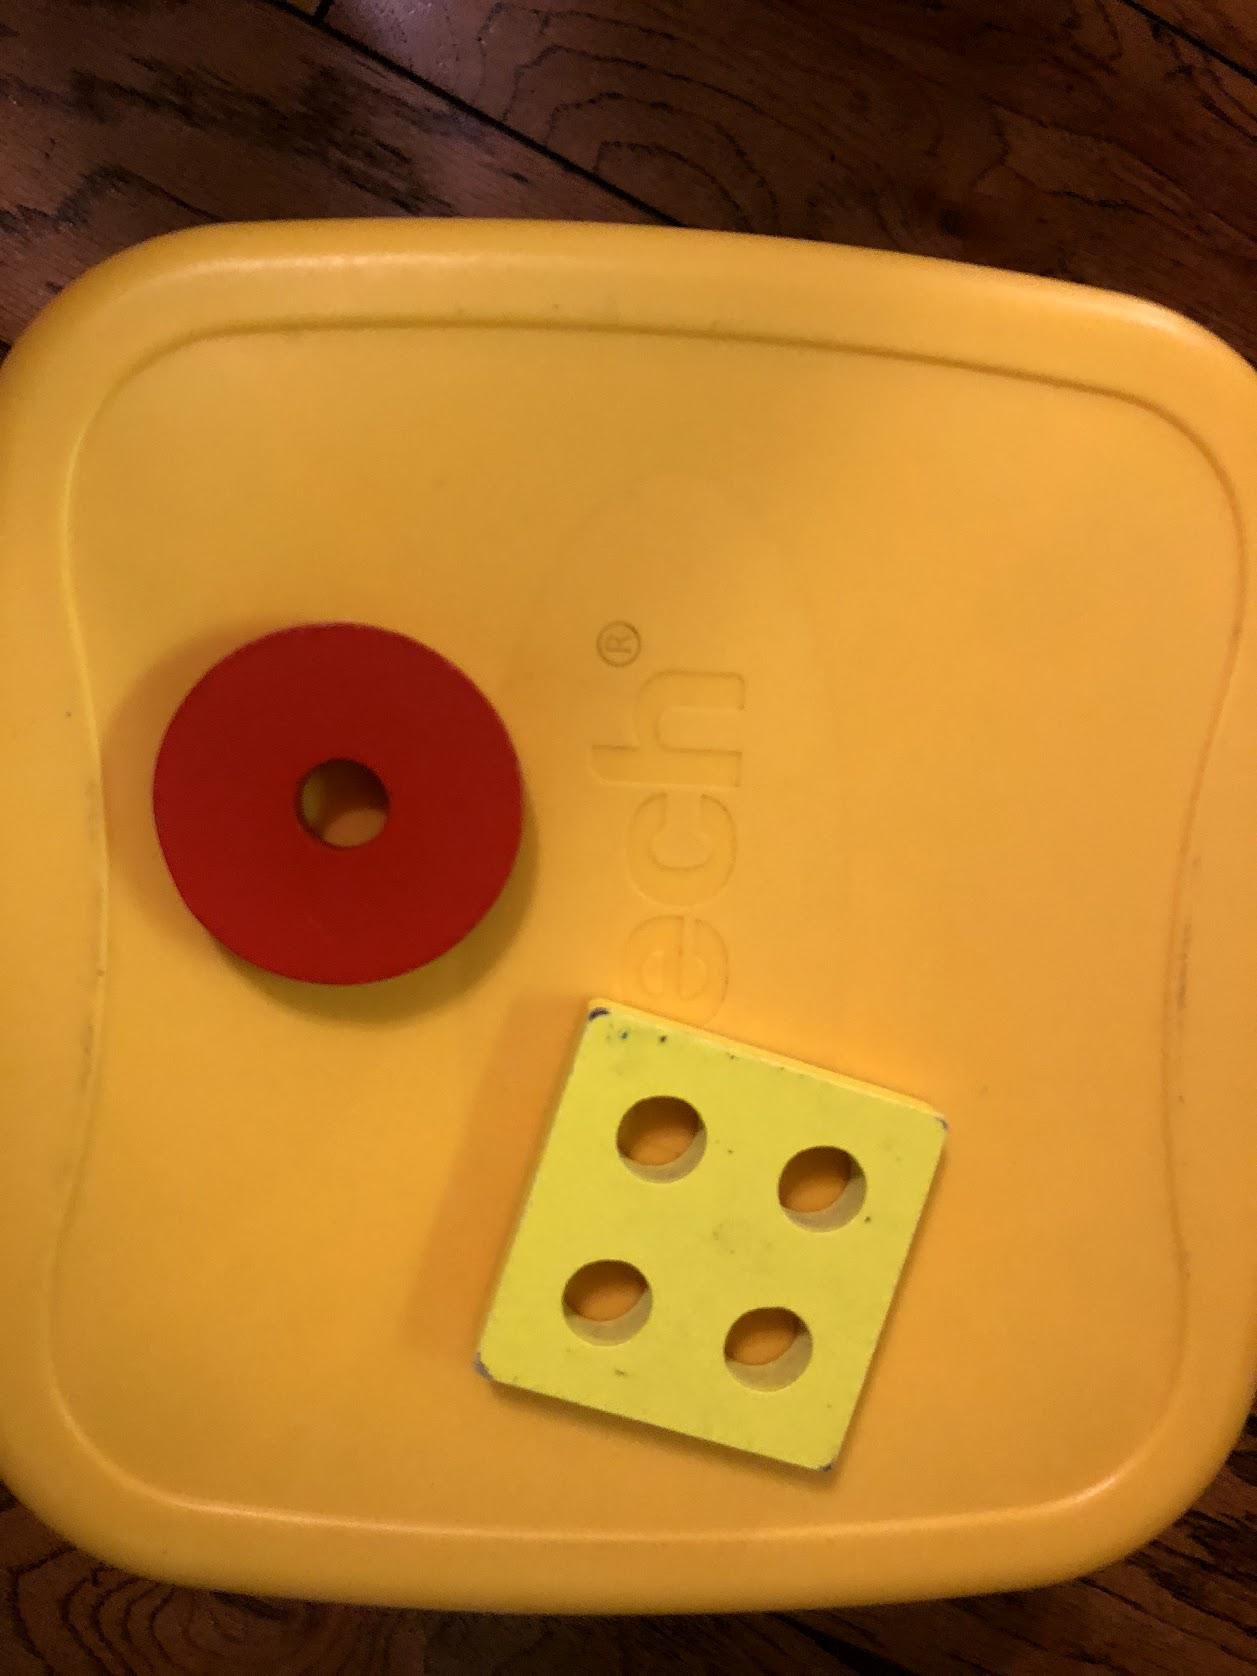Circle: (156, 622, 531, 990)
Square: (481, 1002, 953, 1486)
